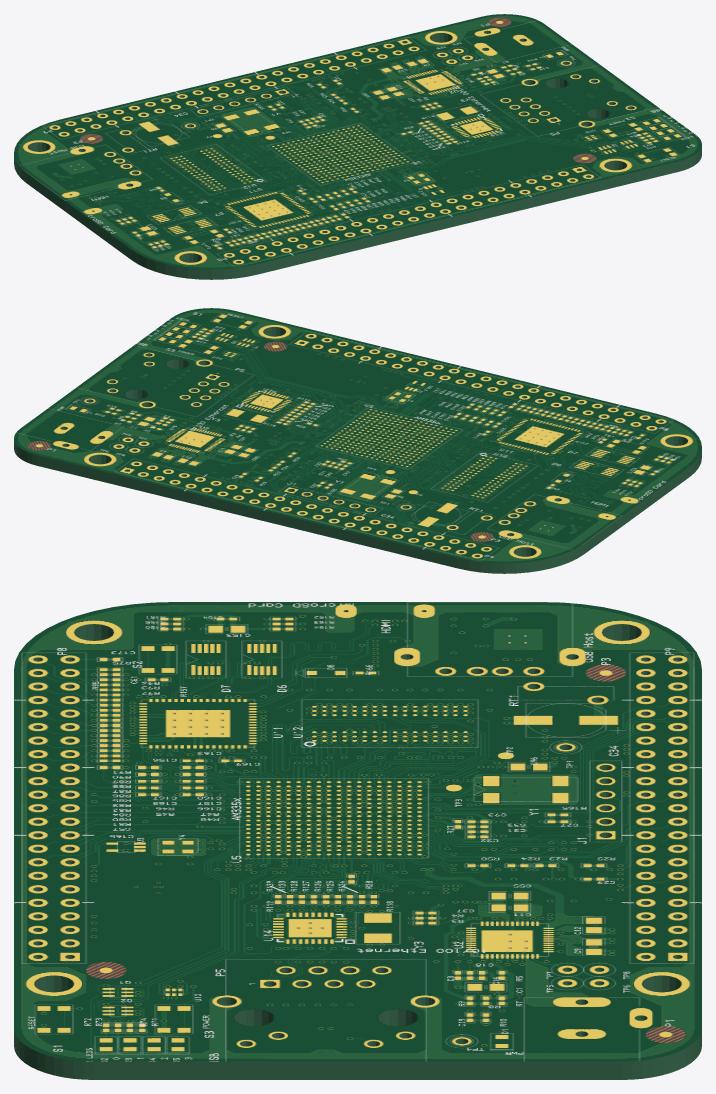
The model's file is without-emmc.glb.
The picture shows the model from 3 angles, top to bottom: view 1: azimuth 30°, elevation 25°; view 2: azimuth 150°, elevation 25°; view 3: azimuth 270°, elevation 25°; orthographic projection. The views are drawn at different scales.
Parts seen in each view (by area): view 1: Box0; view 2: Box0; view 3: Box0.
Part boxes in pixels (<box>): Box0: <box>14,14,701,279</box>; Box0: <box>14,308,701,573</box>; Box0: <box>14,602,701,1079</box>.
Bounding box in the file's own units: 86.39 × 1.6 × 54.64.
Materials: 4 (2 with a texture image).
